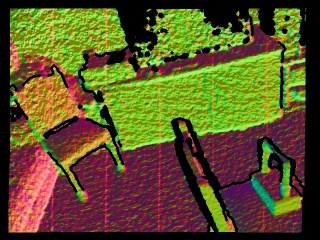station: (250, 137, 303, 216)
